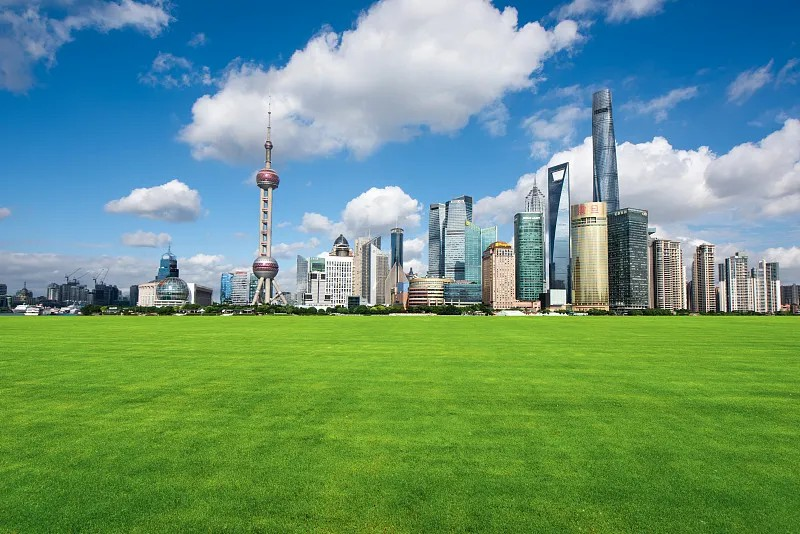Oriental: (252, 98, 285, 305)
